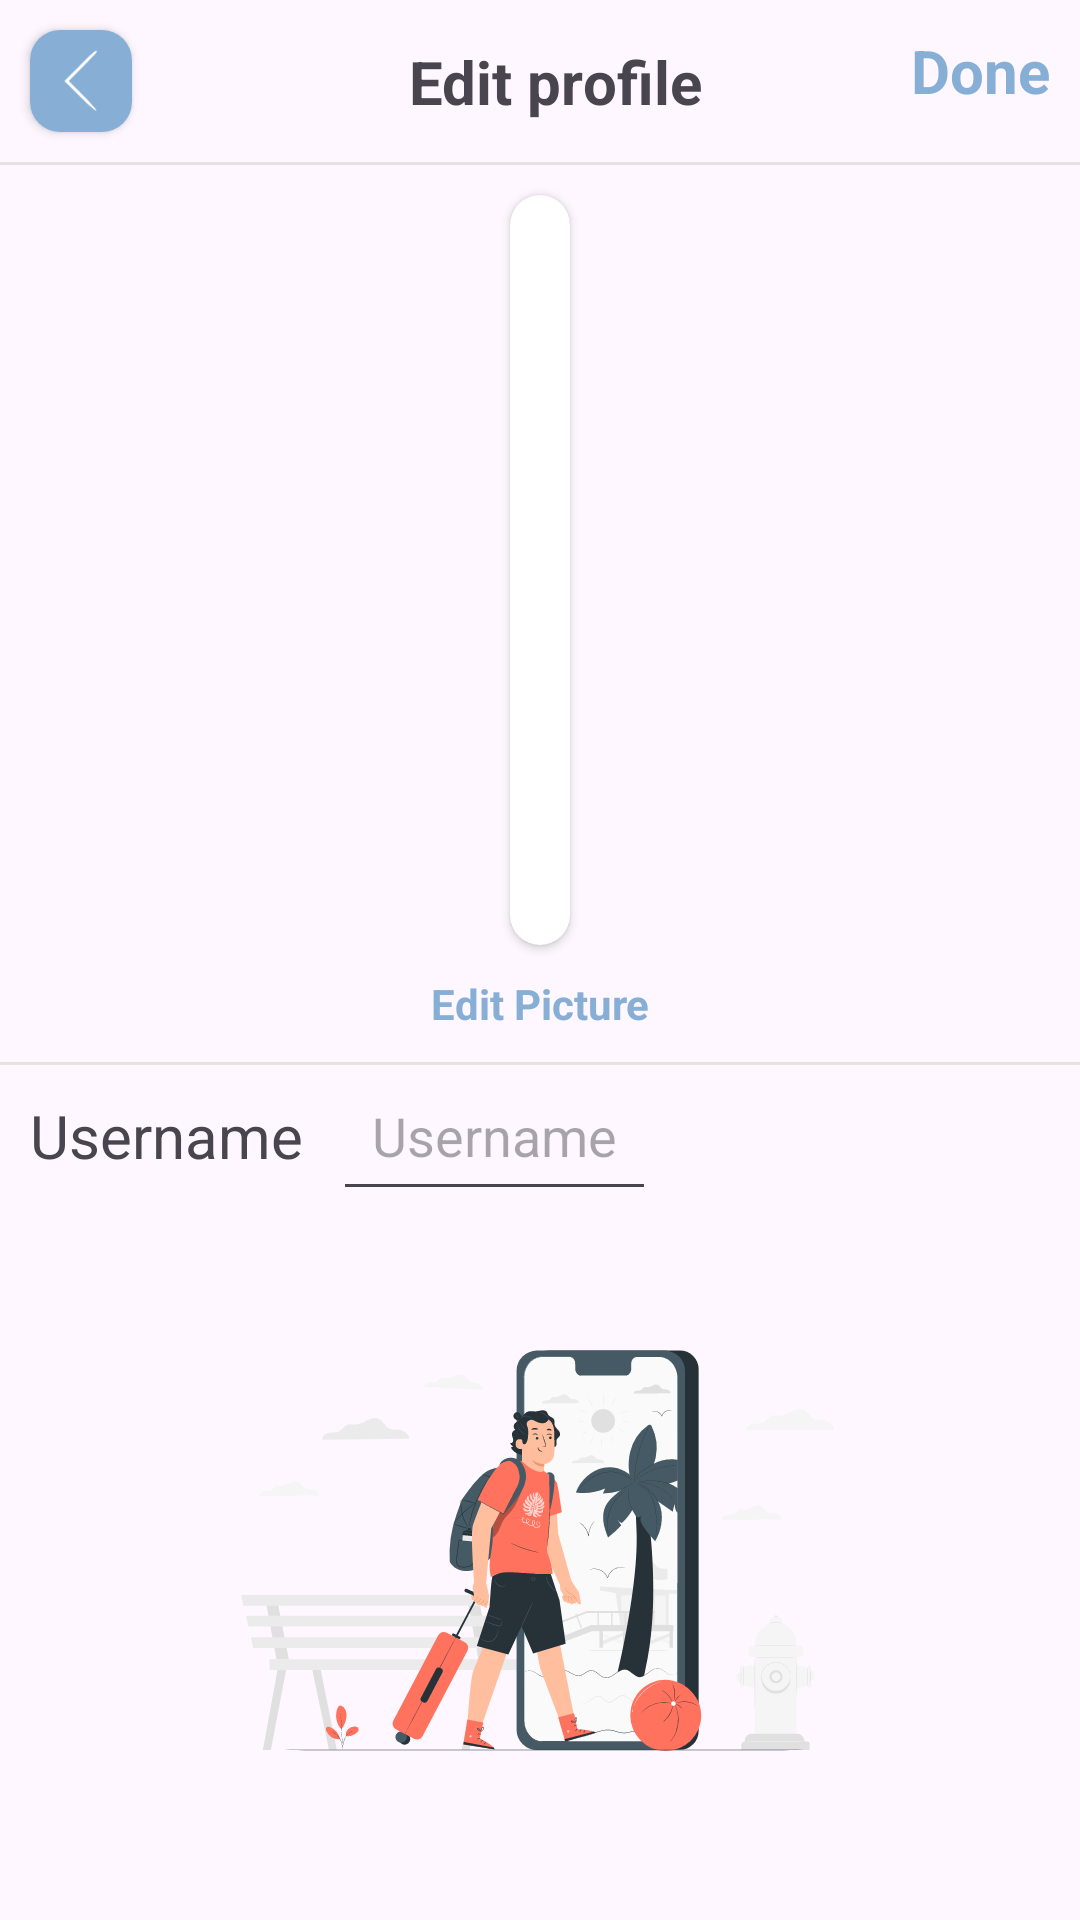

Icon click points for this 1080px×1920px phone screenshot, format [x,y]:
back: [81,81]
